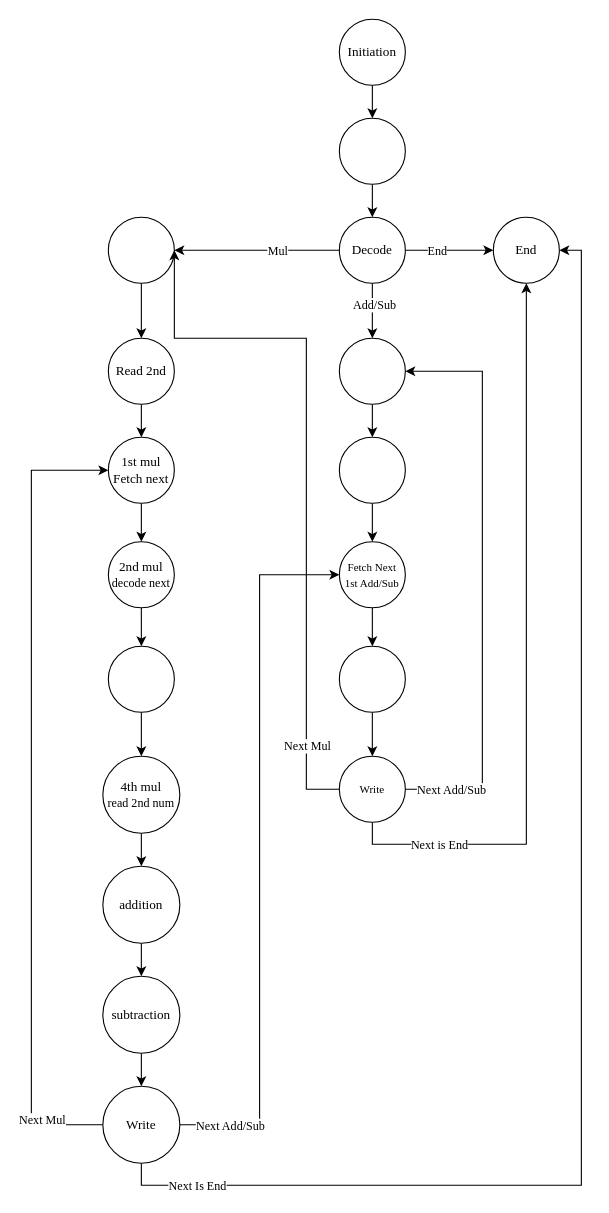
Some shapes in this 609 by 1213 pixel diagram are drawn without their labels. The centre of each missing label's shape, as x and y in pixels:
"3rd mul read 1st num" goes at point (140, 678).
"Decode Next 2nd Add/Sub" goes at point (371, 678).
"Fetch" goes at point (371, 150).
"Read 1st" goes at point (140, 249).
"Read First" goes at point (371, 370).
"Read Second" goes at point (371, 469).
